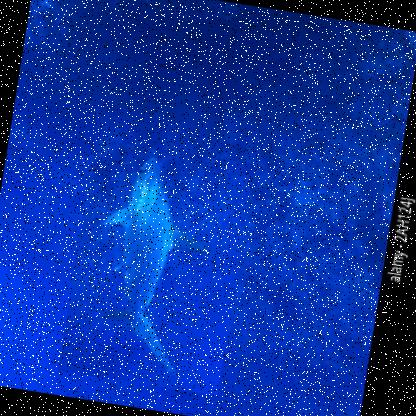hammerhead_Shark: (58, 136, 255, 394)
